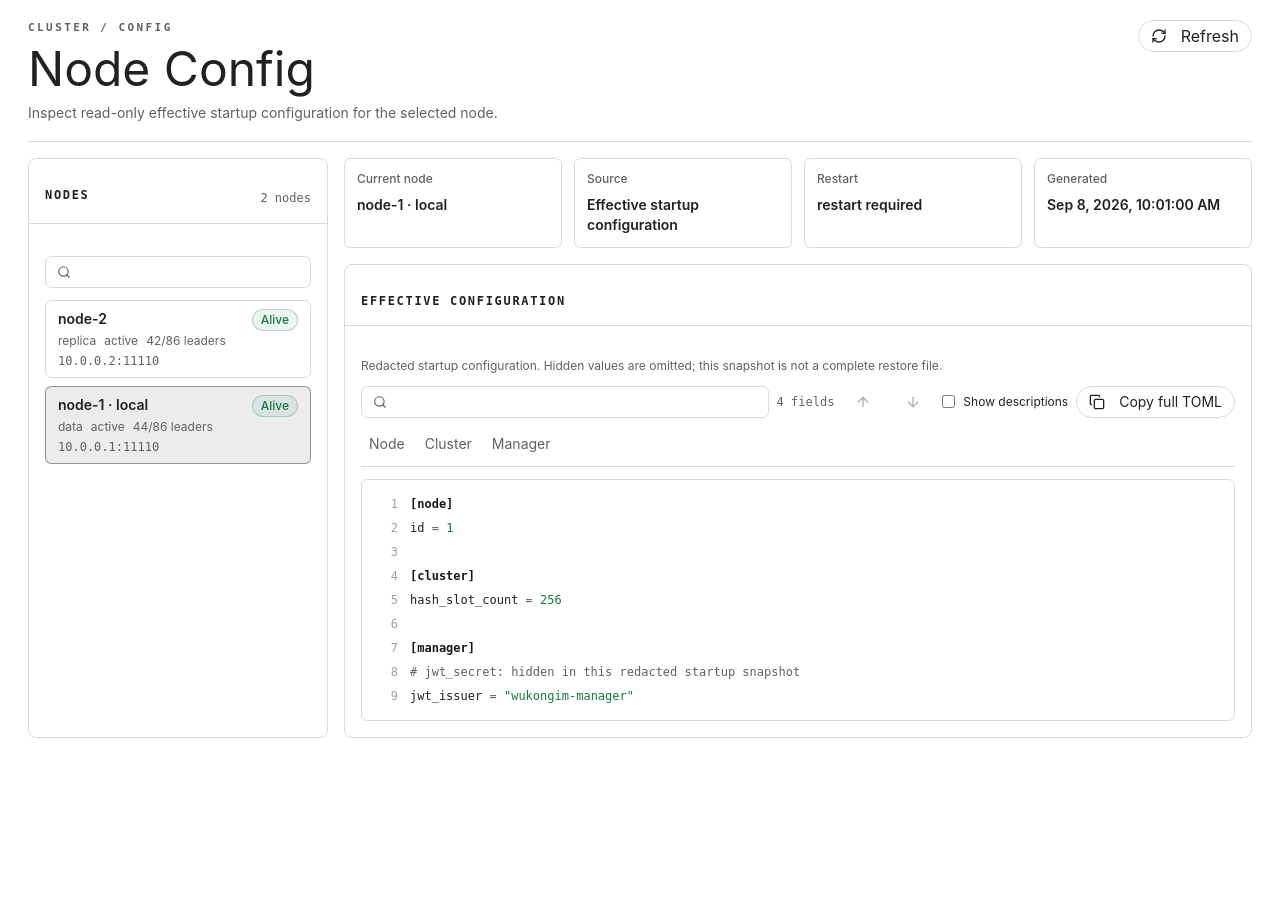
Test case: copies full TOML and optional descriptions even while searching
Expected: the element named "Startup TOML configuration" is shown, [361,478,1235,720]
Type "jwt" into the field named "Search config".
click(565, 402); type("jwt")  # box [361,386,769,418]
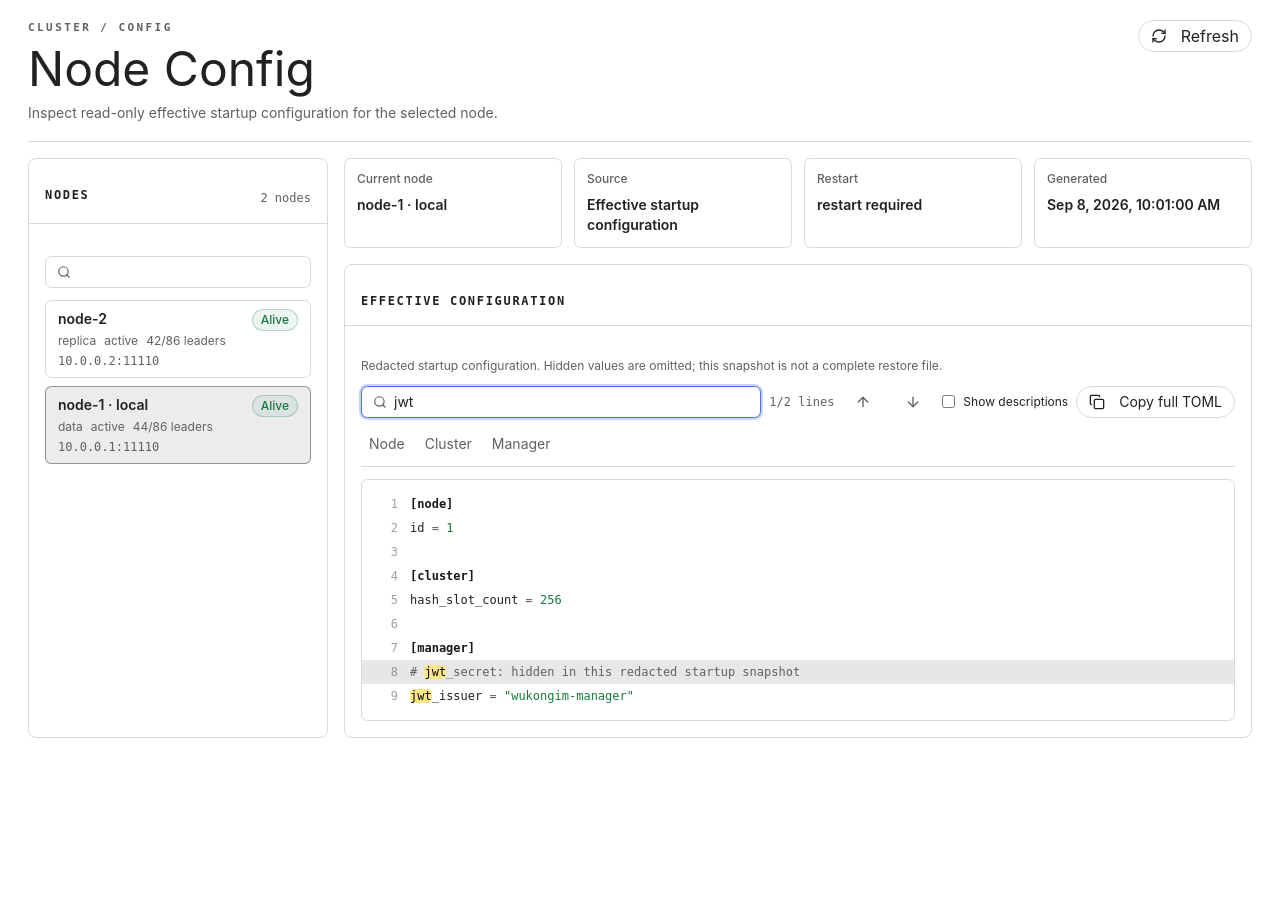
Click the button "Copy full TOML".
click(1156, 402)  # box [1076,386,1235,418]
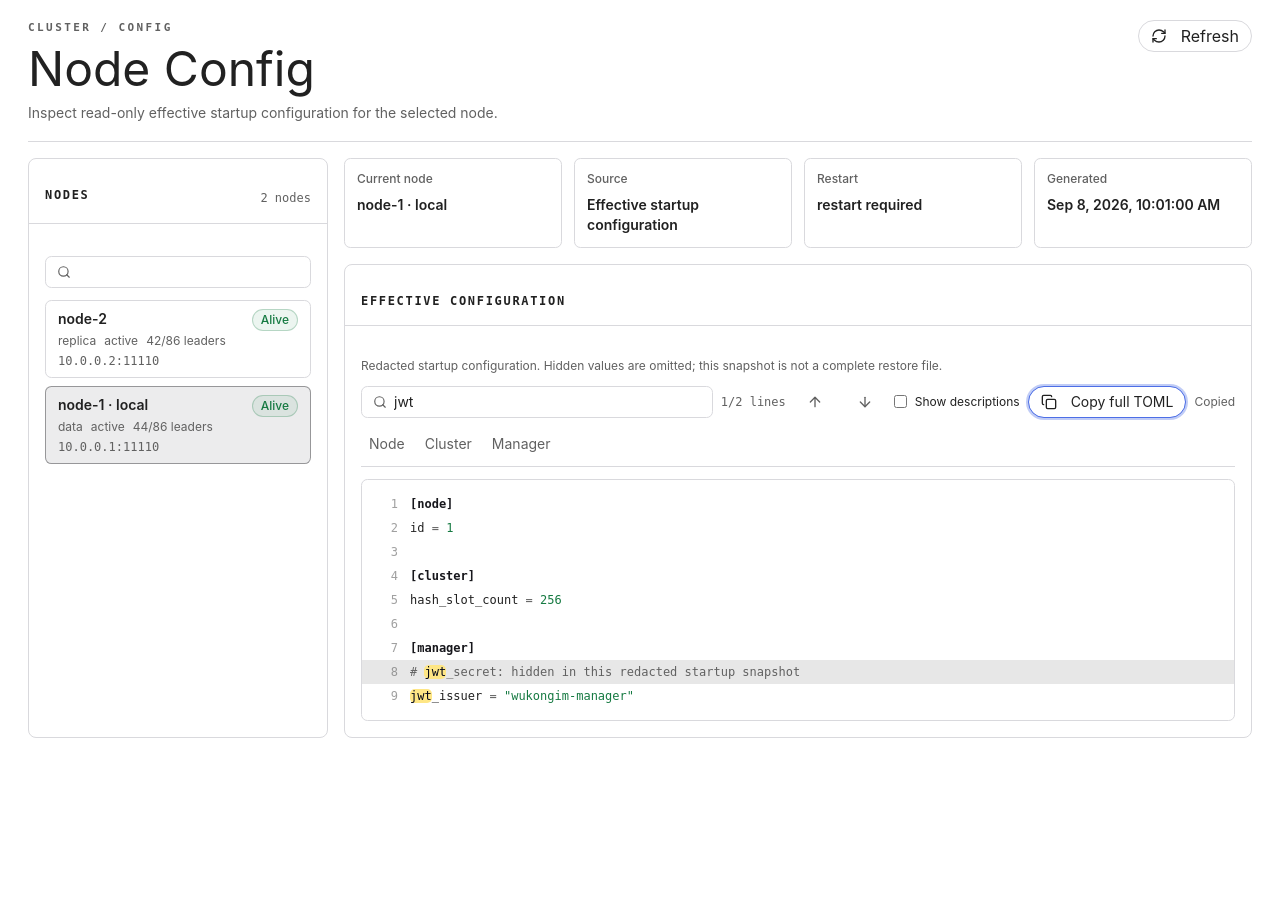
Click the checkbox labelled "Show descriptions".
click(900, 402)  # box [894,395,907,408]
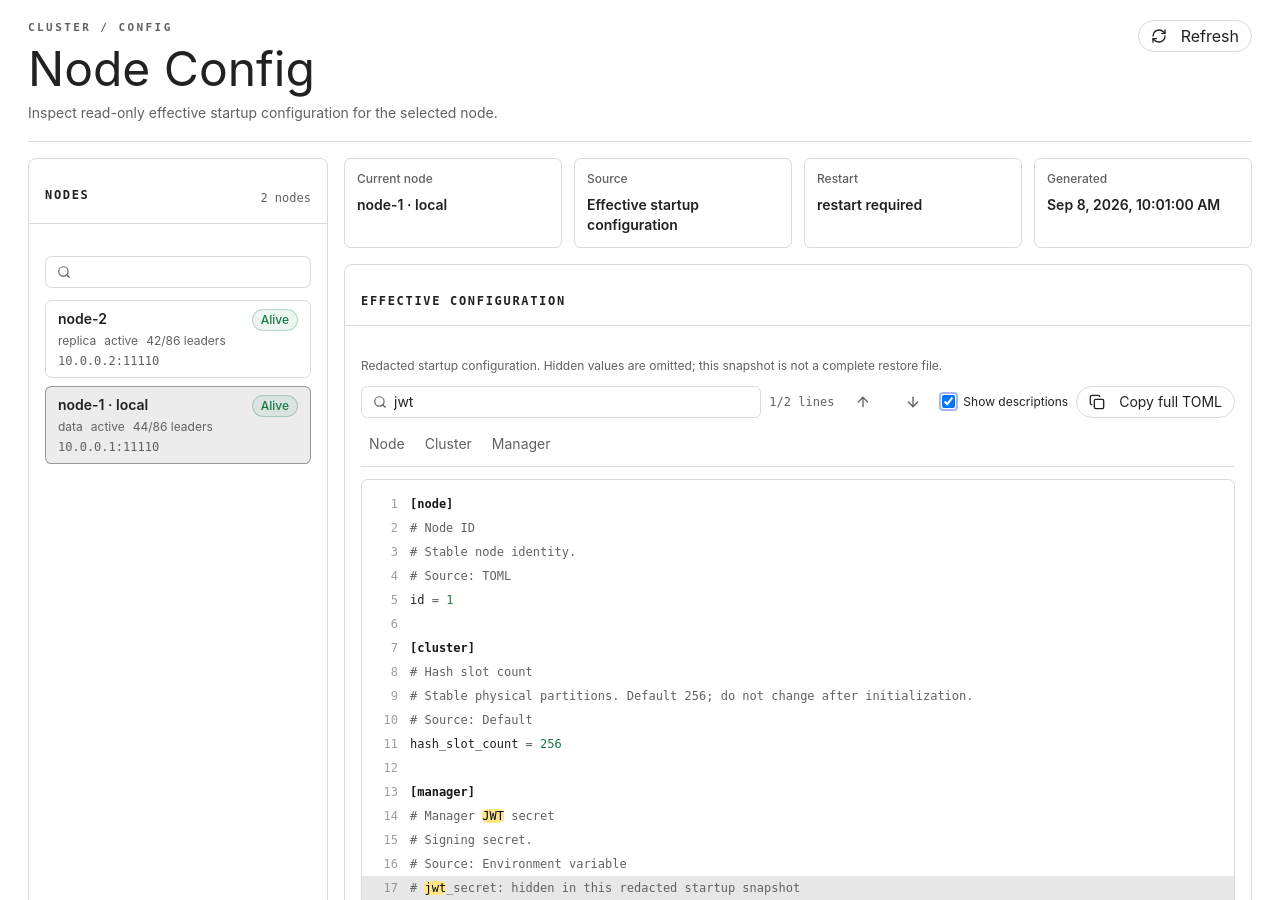
Click the button "Copy full TOML".
click(1156, 402)  # box [1076,386,1235,418]
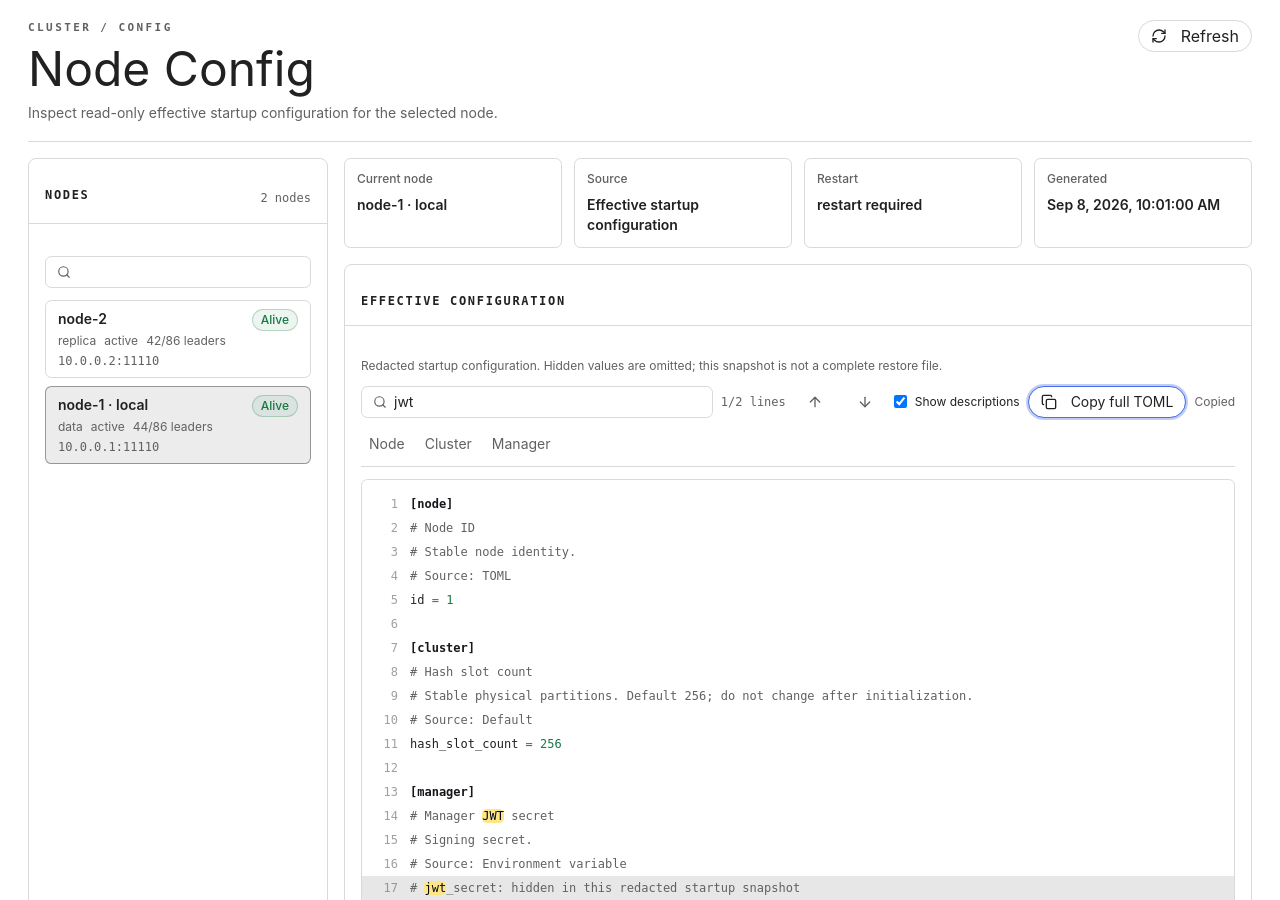
Expected: the text "Copied" is shown, [1194,394,1235,410]
